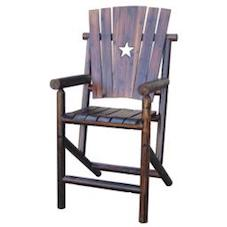chair: (28, 2, 192, 223)
